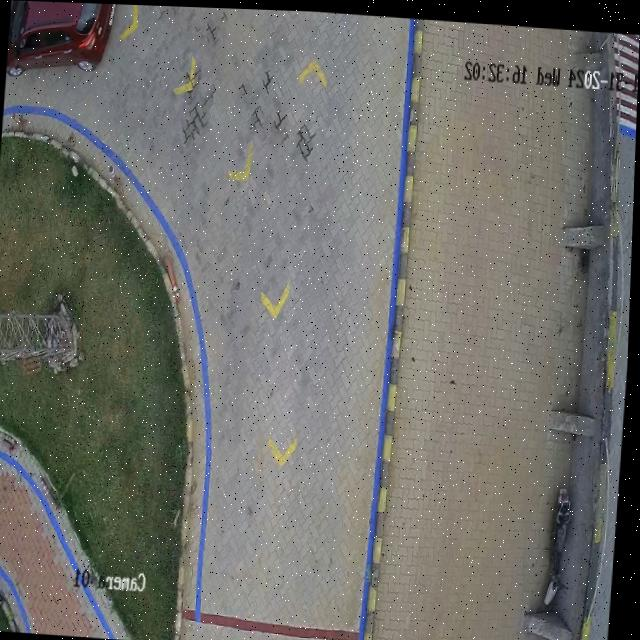car: (8, 0, 115, 75)
